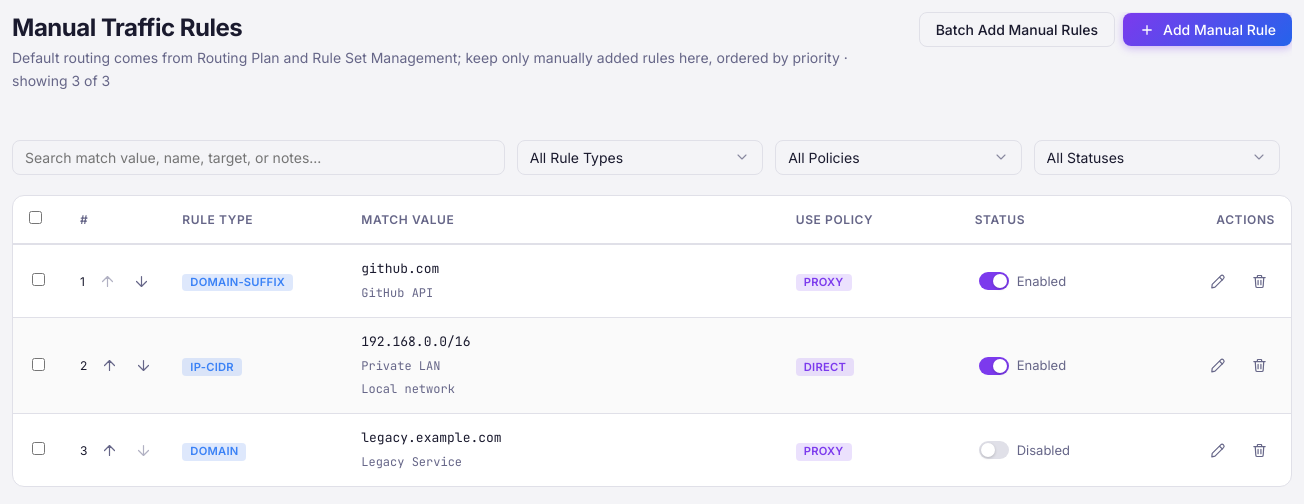
Rules filters › searches names, targets, payloads, and notes and shows a filtered empty state
Step 1. Type "DIRECT" into the field labelled "Search" → {"x": 258, "y": 158}, box [12,140,505,175]
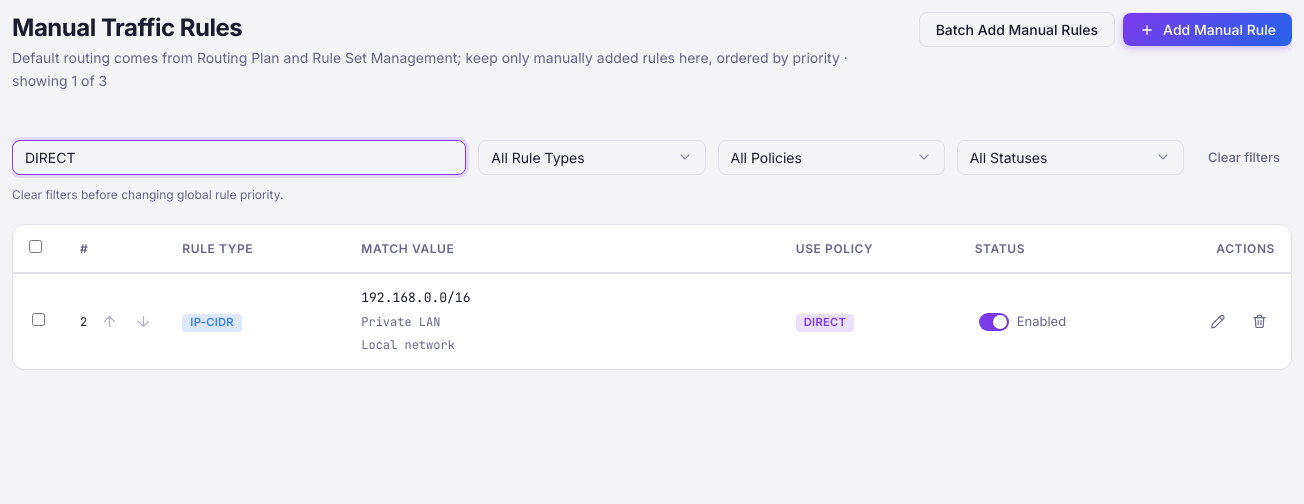
Expected: the text "192.168.0.0/16" is shown, [361,289,470,306]
Expected: the text "github.com" is gone
Step 2. Clear the field named "Search" → {"x": 239, "y": 158}, box [12,140,466,175]
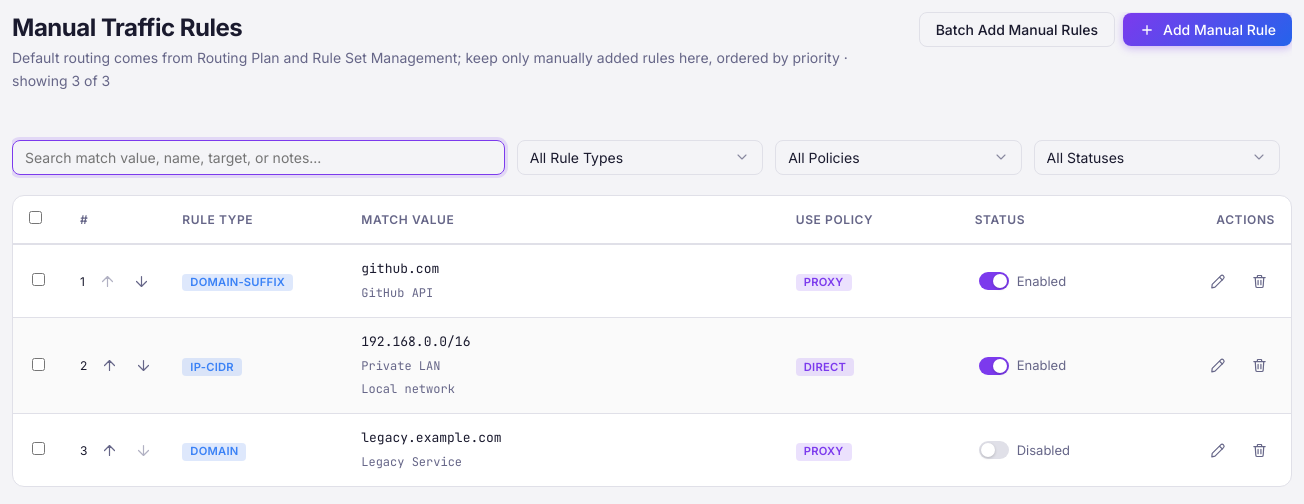
Step 3. Type "does-not-exist" into the field labelled "Search" → {"x": 258, "y": 158}, box [12,140,505,175]
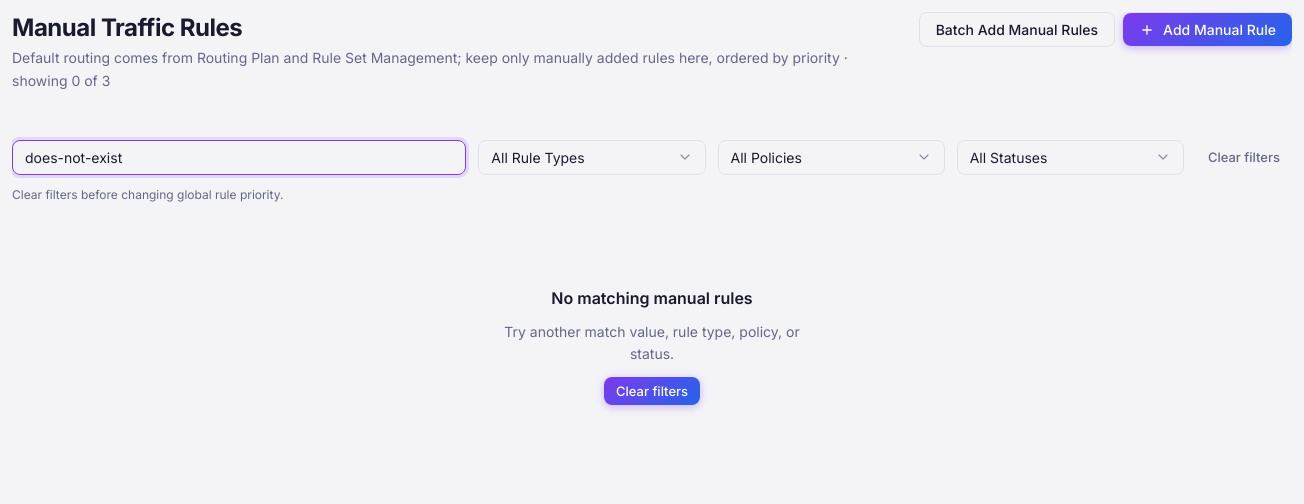
Expected: the heading "No matching manual rules" is shown, [551,288,753,309]
Expected: the text "Try another match value, rule type, policy, or status." is shown, [492,321,812,365]
